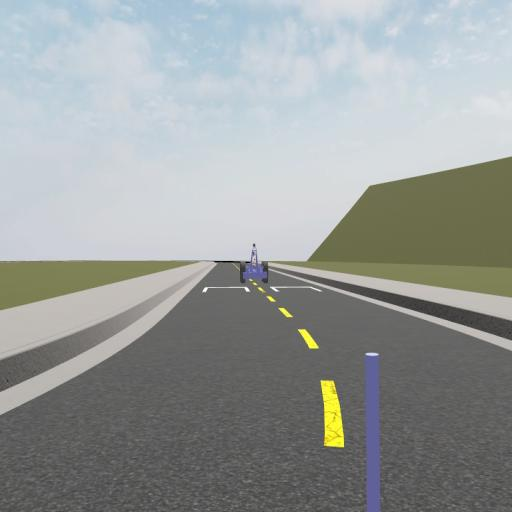ERP-42: (239, 246, 269, 284)
